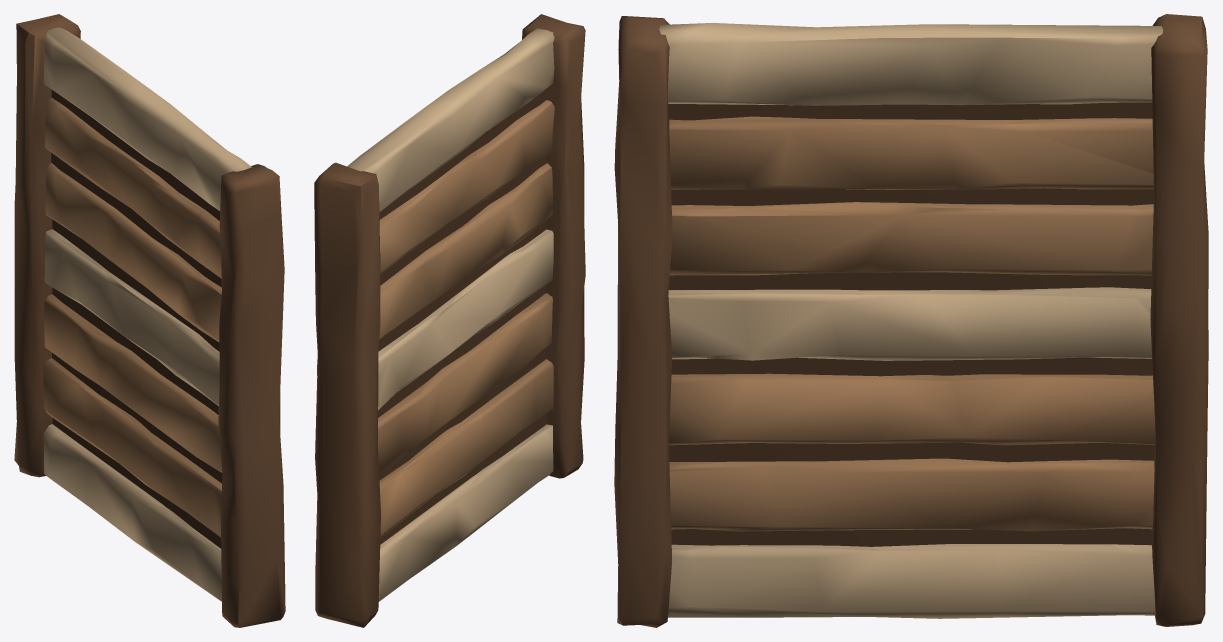
File: canopy_crate_wall_lod1.glb
3 views of the same model, side by side, from view 1: azimuth 30°, elevation 25°; view 2: azimuth 150°, elevation 25°; view 3: azimuth 270°, elevation 25° (orthographic). The views are drawn at different scales.
Visible parts, largest first — view 1: canopy_crate_wall.001; view 2: canopy_crate_wall.001; view 3: canopy_crate_wall.001.
Boxes of the visible parts, x1,y1,x2,y2 form: canopy_crate_wall.001: (14,14,285,627); canopy_crate_wall.001: (314,14,585,627); canopy_crate_wall.001: (614,14,1208,627).
Size of the model in its own units: 2.91 by 22.16 by 20.17.
